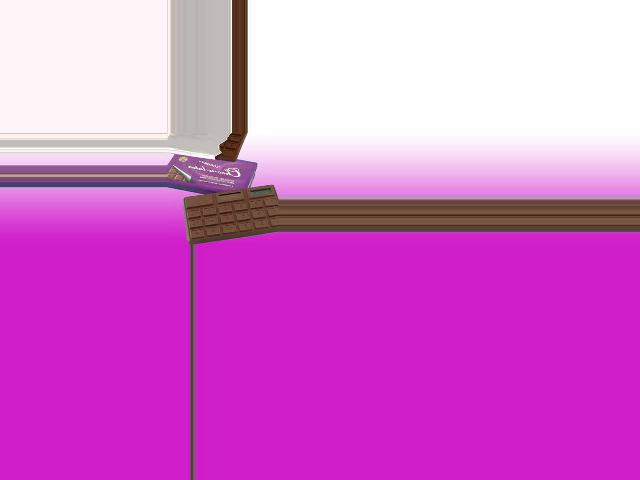chocolate: (184, 183, 275, 245)
